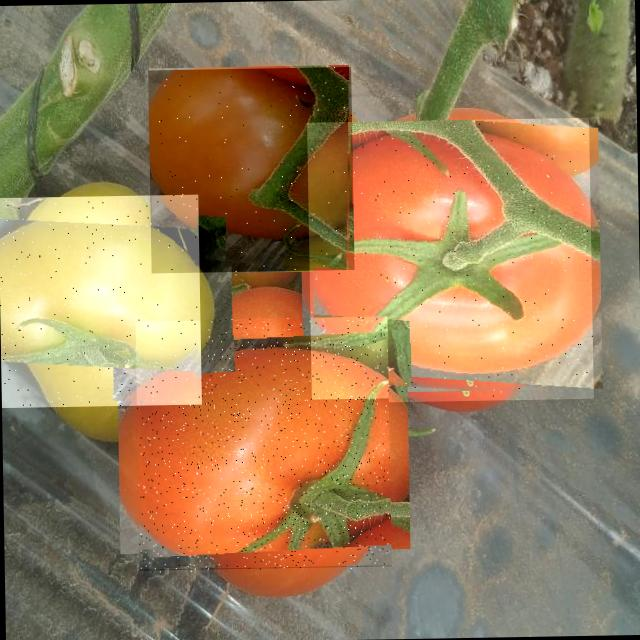Ripe Tomato: (306, 117, 594, 403), (135, 316, 391, 572), (148, 66, 354, 273)
Unripe Tomato: (0, 194, 201, 407)
